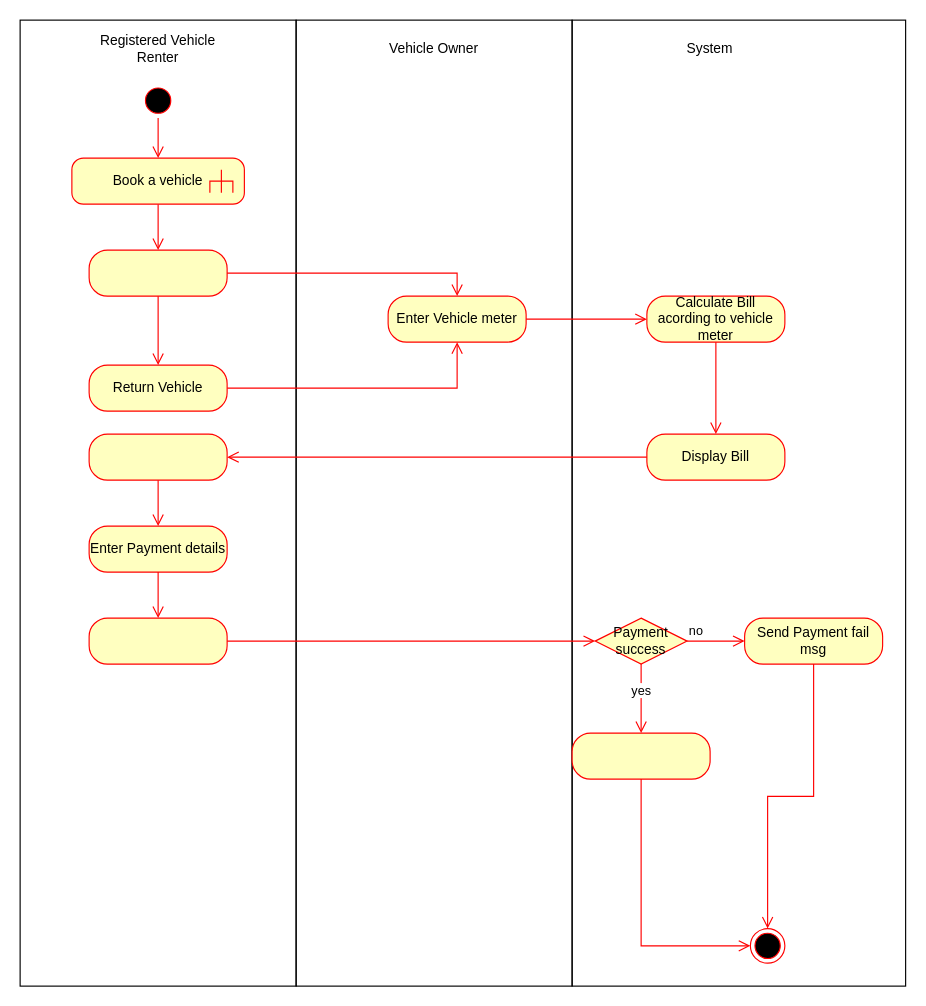
Image size: 926x1006. Some labels were removed from this diagram. The shapes that lost their labels are listed below. From the top down, each one's centre as x and y in pixels, then its label:
At pixel 157 272: "Get Vehicle from Owner".
At pixel 157 456: "Select Payment type".
At pixel 157 640: "Make payment".
At pixel 640 755: "Send Payment successful".
